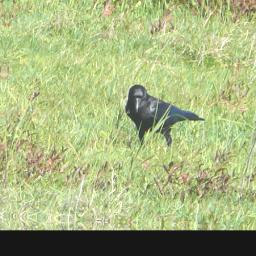Crow: (123, 84, 209, 153)
